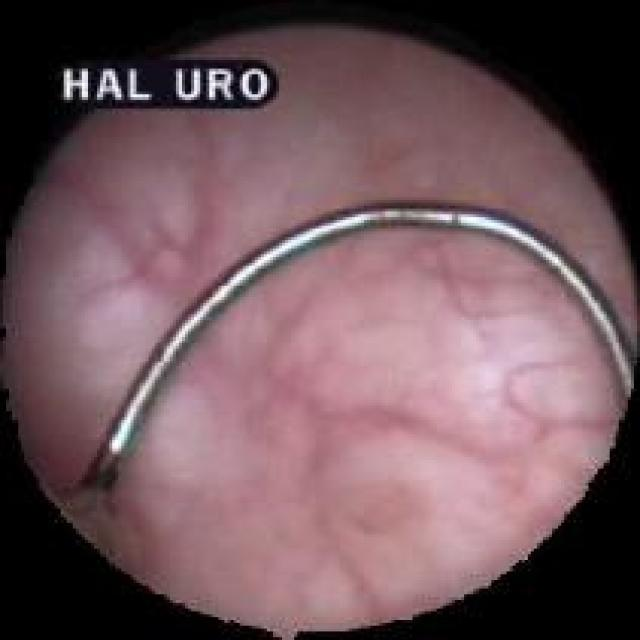color misalignment: (60, 58, 271, 112)
instrument: (78, 201, 637, 522)
